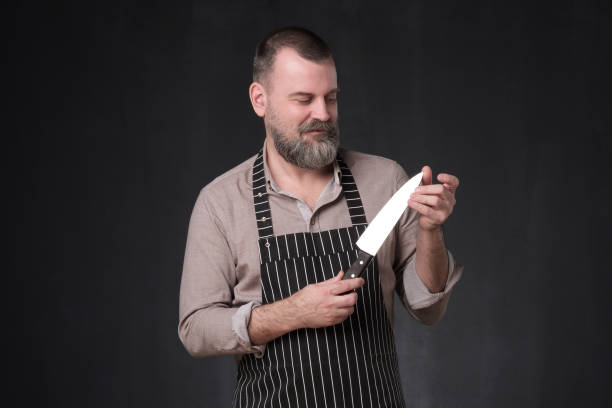knife: (341, 172, 425, 281)
